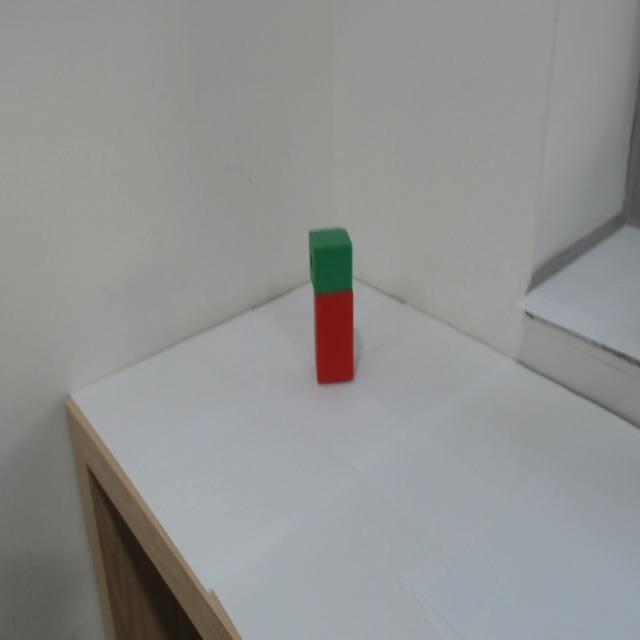cube: (303, 213, 370, 298)
